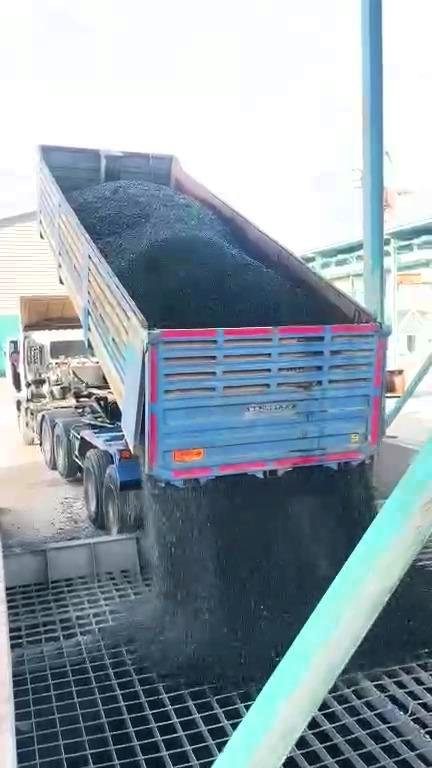gravel: (102, 470, 373, 685), (70, 181, 334, 327), (350, 568, 432, 670)
